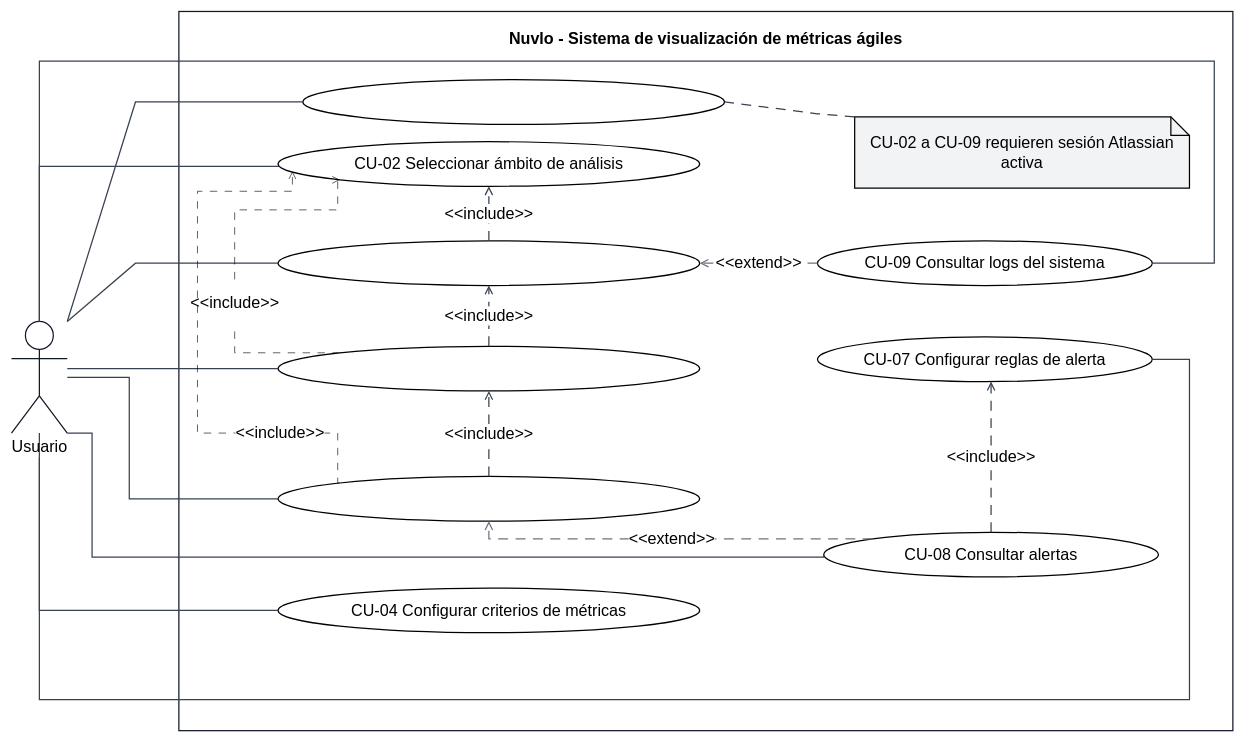
Some shapes in this 1244 by 742 pixel diagram are drawn without their labels. The centre of each missing label's shape, as x and y in pixels:
"CU-01 Autenticarse mediante Atlassian" belongs at point (513, 102).
"CU-03 Actualizar datos de Jira" belongs at point (488, 263).
"CU-05 Consultar dashboard principal" belongs at point (488, 498).
"CU-06 Analizar métricas de flujo" belongs at point (488, 368).
